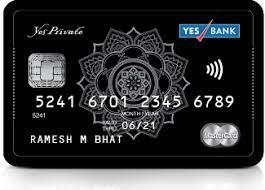payment_card: (3, 0, 264, 169)
